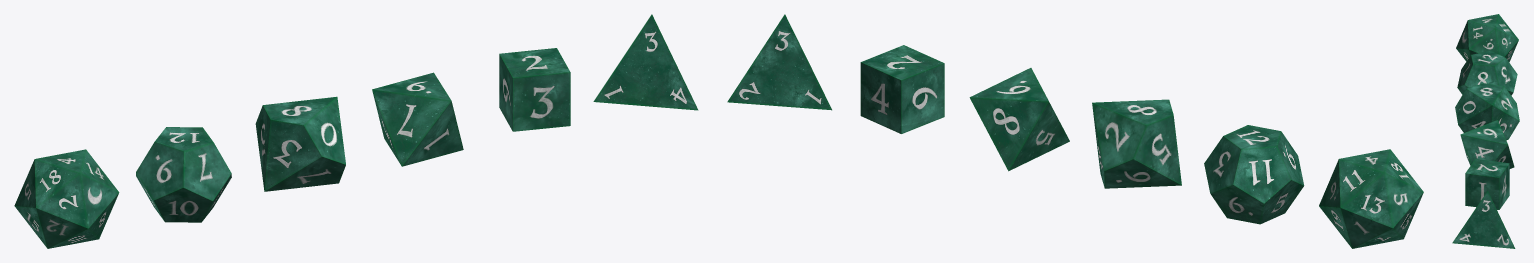
The model's file is dices_green.glb.
The picture shows the model from 3 angles, left to right: view 1: azimuth 30°, elevation 25°; view 2: azimuth 150°, elevation 25°; view 3: azimuth 270°, elevation 25°; orthographic projection. The views are drawn at different scales.
Visible parts, largest first — view 1: d20, d10, d12, d8, d6, d4; view 2: d12, d20, d10, d6, d8, d4; view 3: d10, d20, d6, d4, d12, d8.
Part boxes in pixels (x1,y1,x2,y2): d20: (14,149,119,248); d10: (255,96,345,191); d12: (136,127,231,222); d8: (372,72,463,166); d6: (499,48,570,131); d4: (593,14,698,110); d12: (1204,125,1304,224); d20: (1319,149,1423,248); d10: (1092,99,1181,188); d6: (860,45,944,133); d8: (969,68,1069,171); d4: (727,14,831,110); d10: (1455,83,1519,140); d20: (1456,14,1518,62); d6: (1465,159,1509,209); d4: (1452,191,1515,248); d12: (1457,51,1517,95); d8: (1460,120,1514,168).
Bounding box in the file's own units: 9.05 × 1.09 × 1.33.
Materials: 1 (1 with a texture image).
